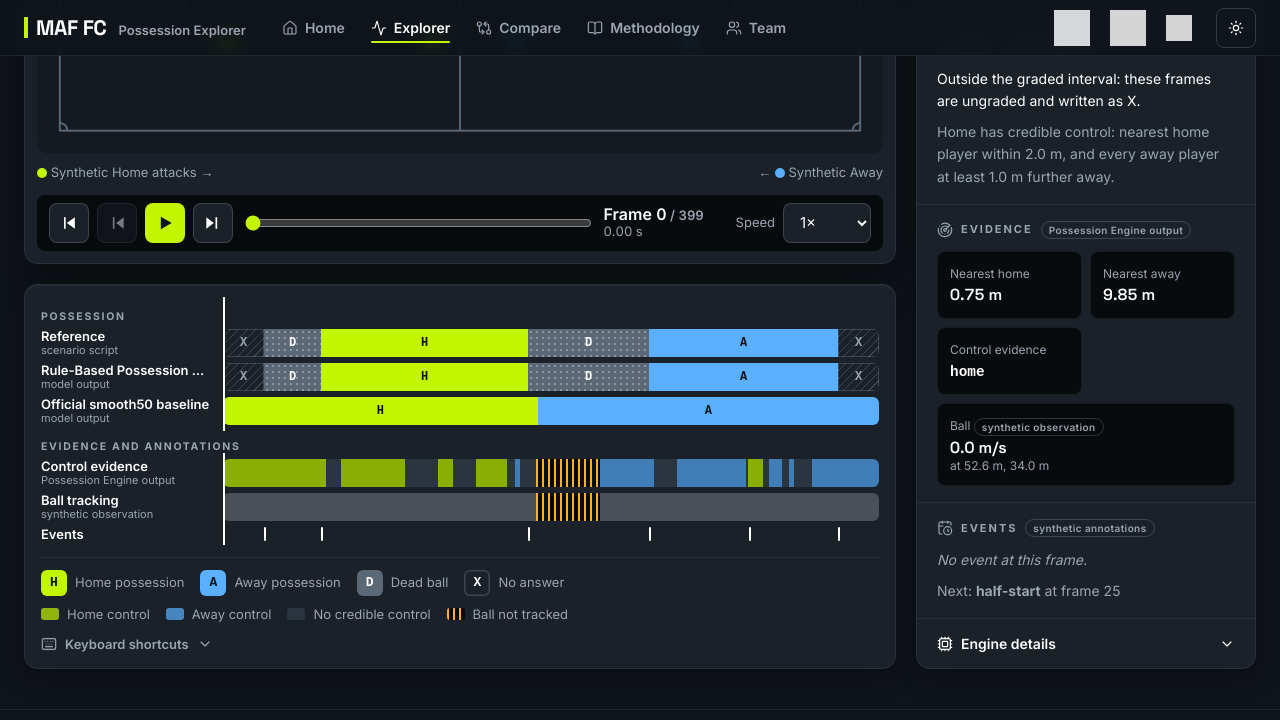
Test: Explorer app › seeks when the timeline is clicked
(page scrolled)
Check: the element with test id "readout" is shown, box [604,204,704,239]
Click the element with test id "timeline-bars" at (551, 421), box [223,301,879,541]
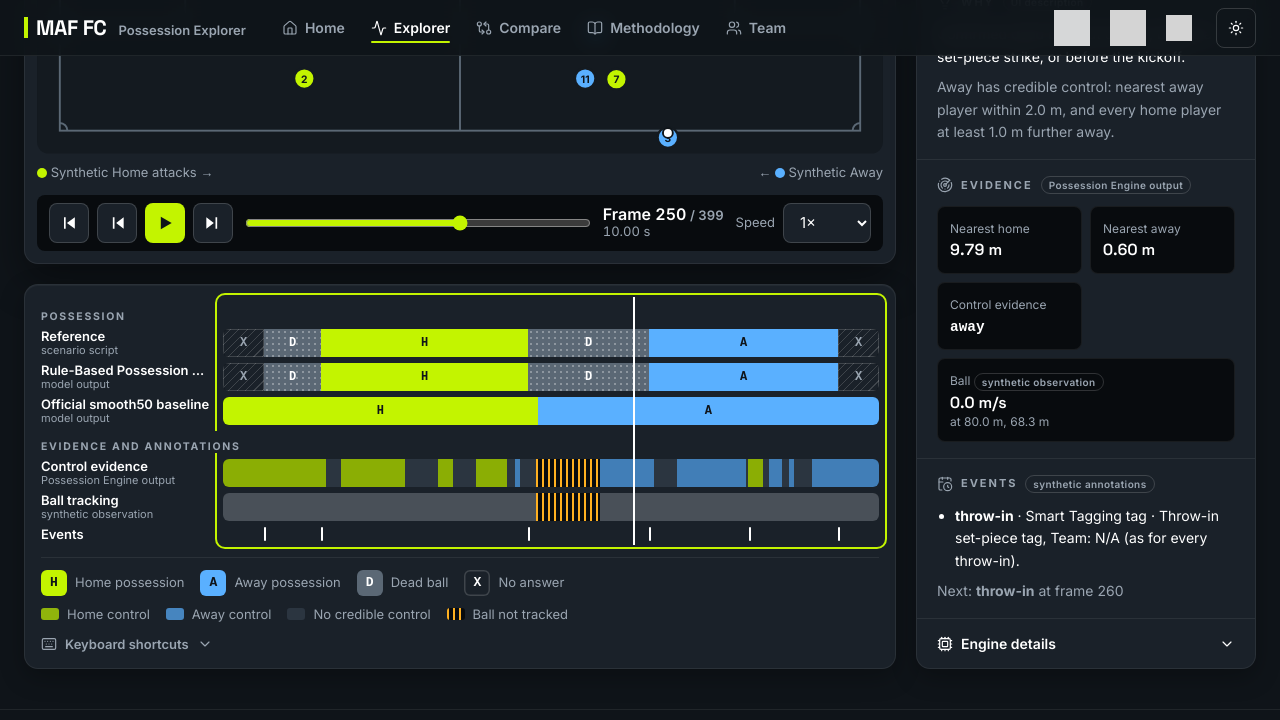
Check: the element with test id "readout" shows "Frame 250", box [603,205,724,240]
